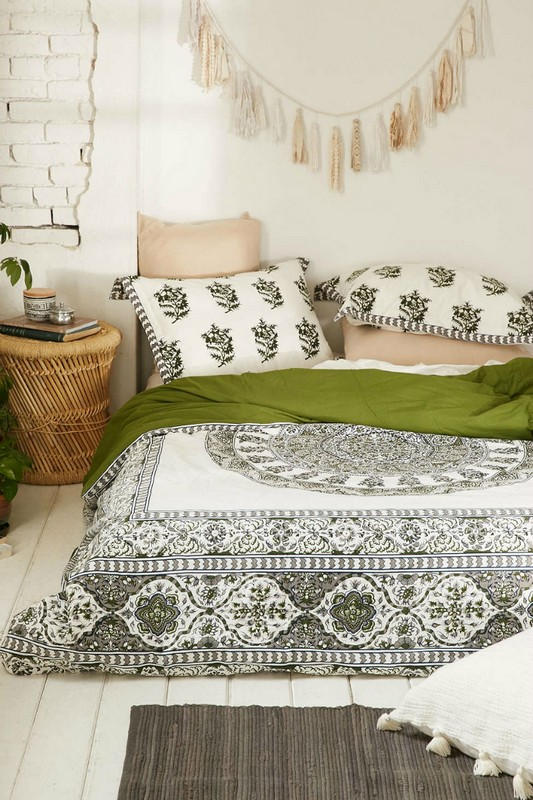bed: (107, 267, 529, 688)
stool: (3, 316, 122, 492)
